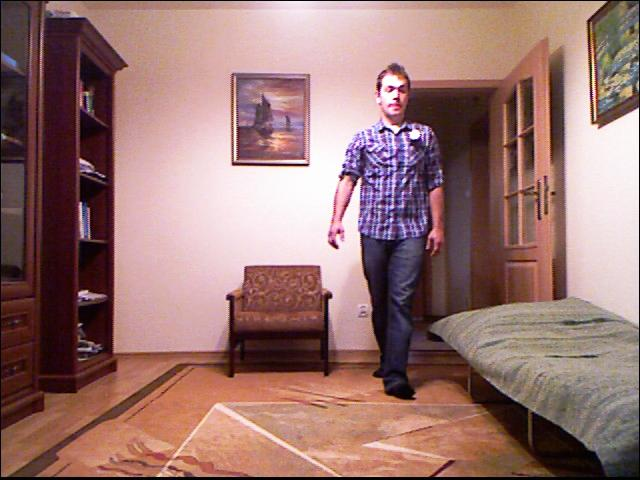walking: (325, 71, 461, 395)
